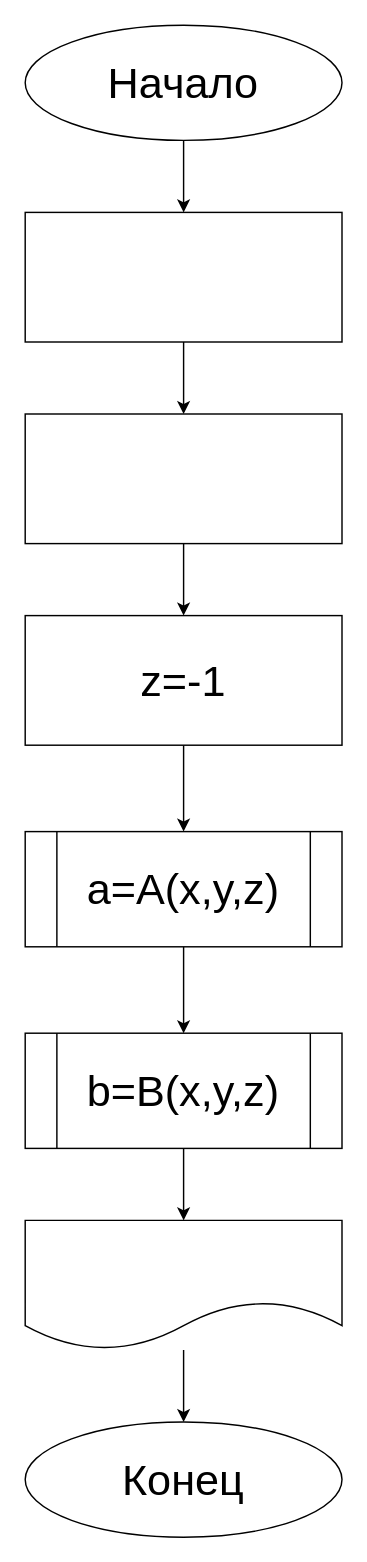
The diagram is 367 pixels wide and 1562 high, and some of its shapes have lost their labels. Here are the shapes that lost their labels. From the top down, the centre of each, then its label:
At [183,276]: "x=0.29".
At [183,478]: "y=3.7".
At [183,1284]: "x,y,z,a,b".
